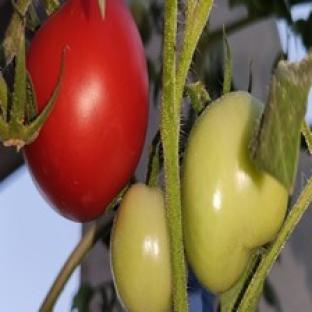Tomato: (182, 92, 288, 292), (111, 184, 171, 311)
